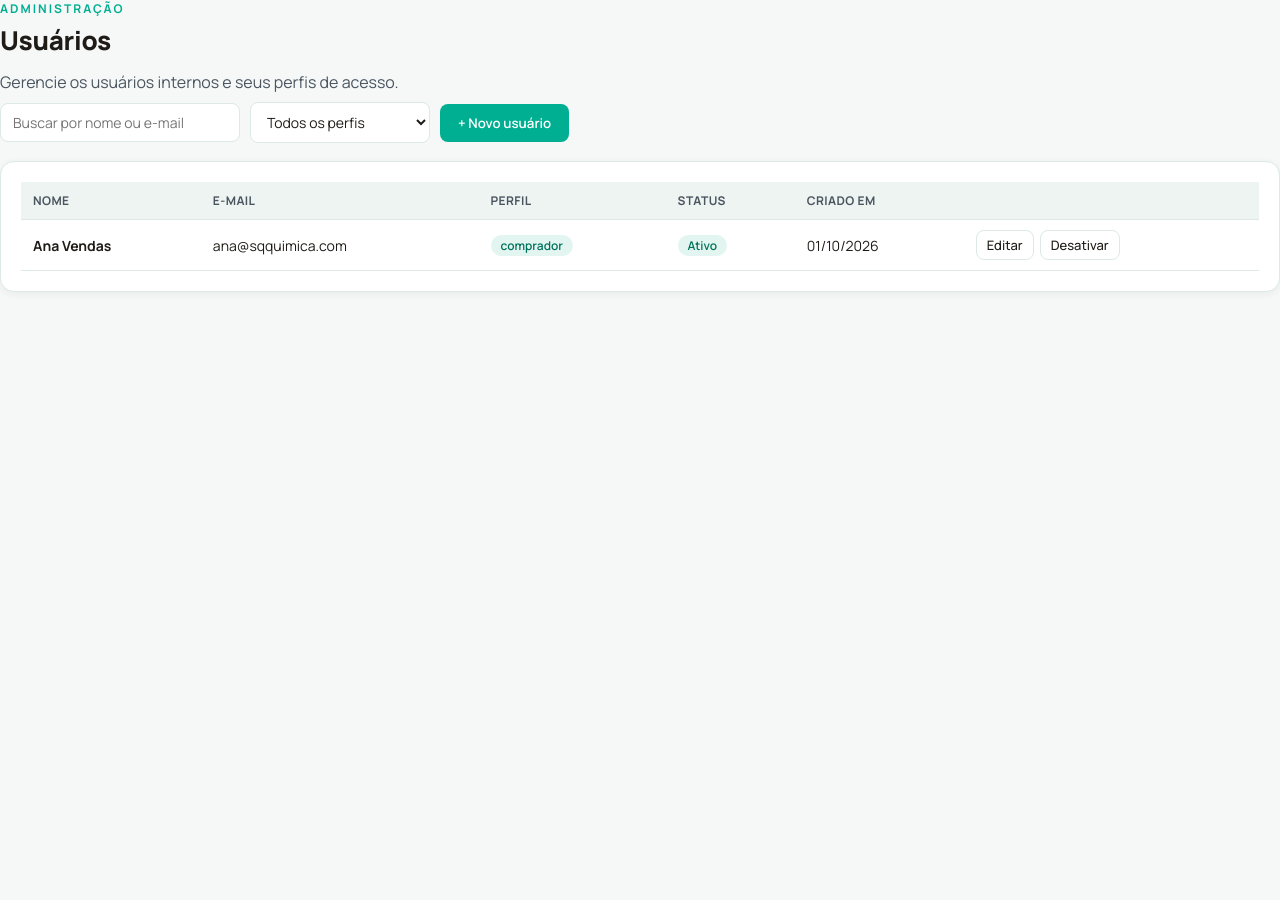
Test: Usuarios › 10. erro do backend (ex.: alterar o próprio perfil) aparece no modal e ele continua aberto
Click the button with aria-label "Editar Ana Vendas" at x=1005, y=245, box [976, 230, 1034, 260]
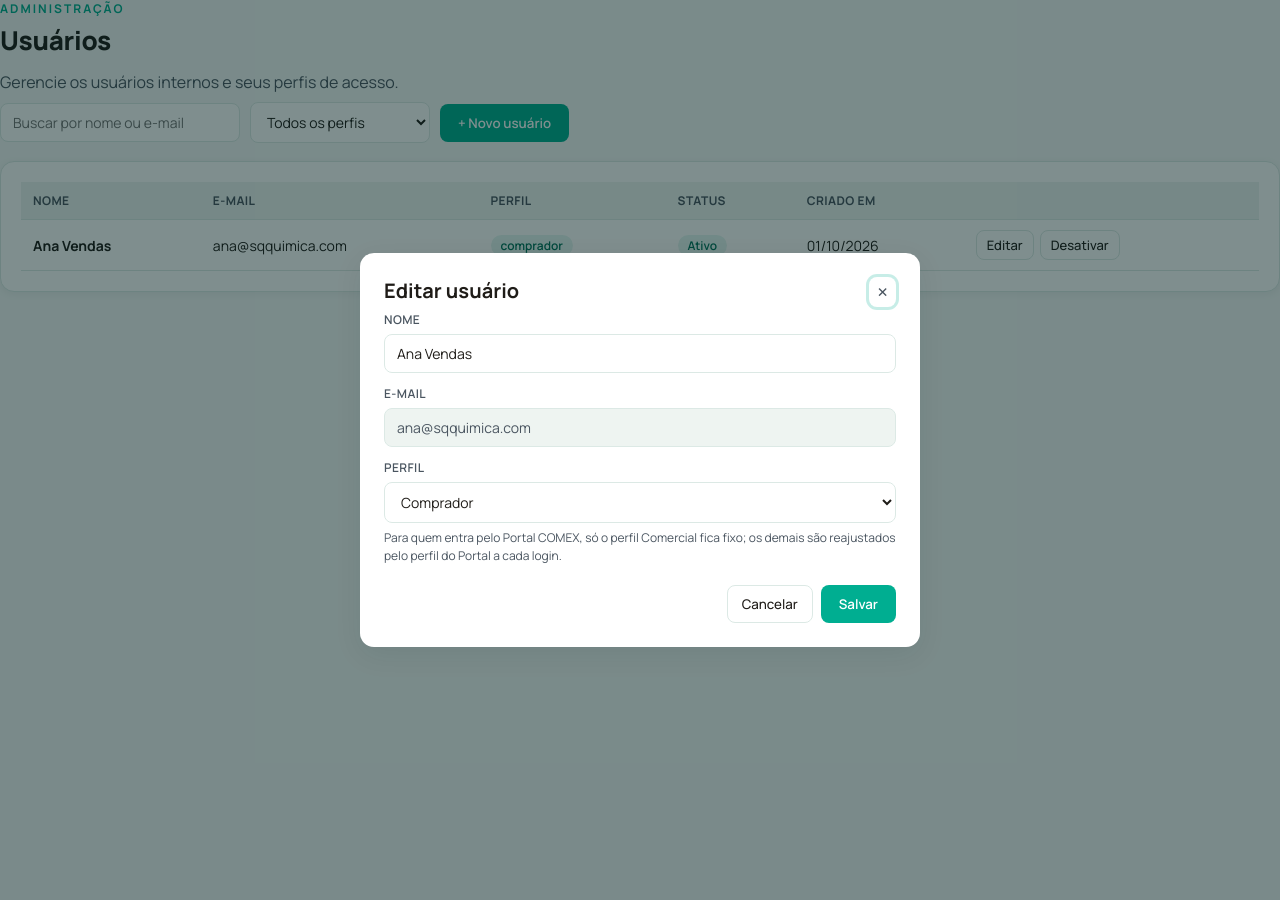
Select "Viewer" in the dropdown labelled "Perfil" at x=640, y=502, box [384, 482, 896, 523]
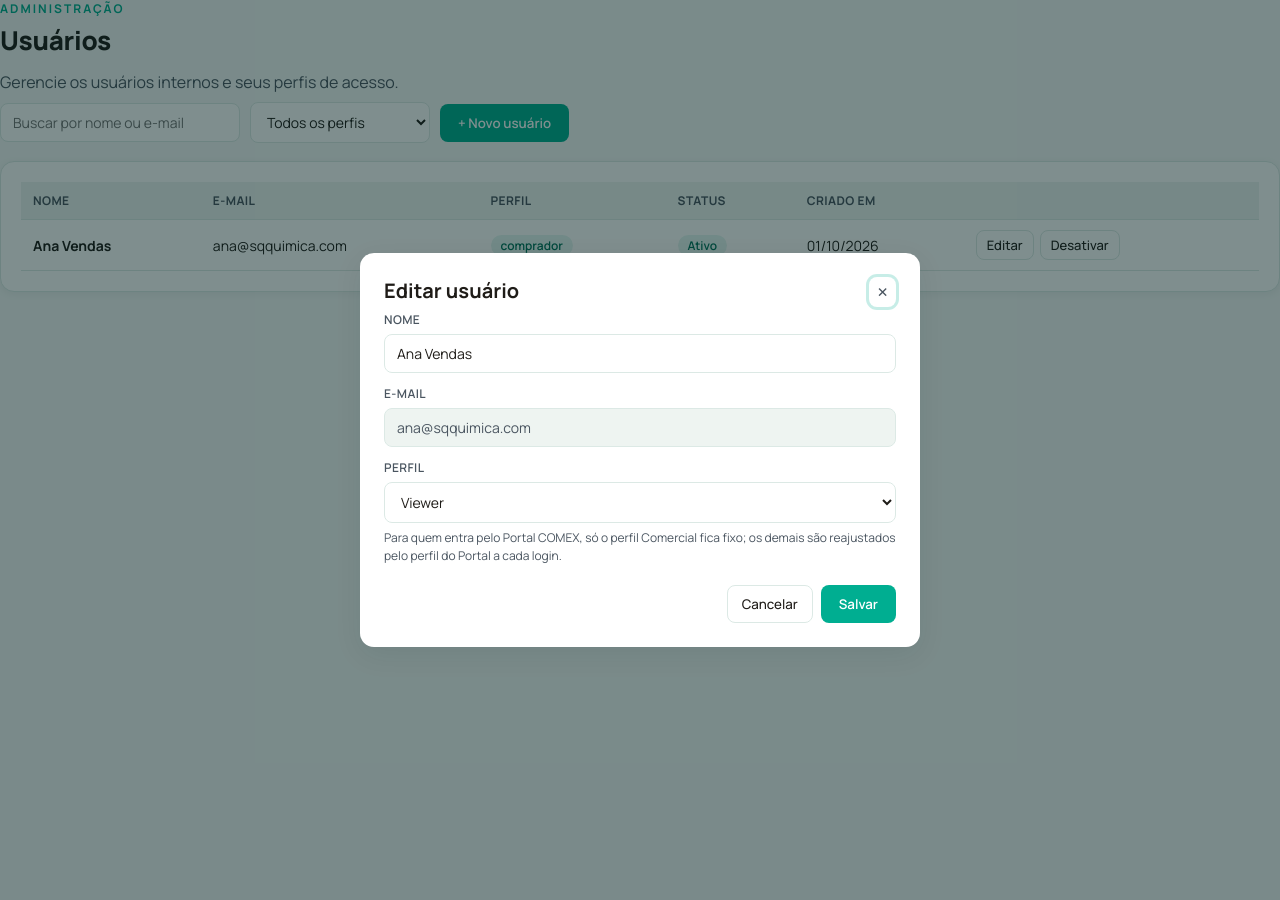
Click the button "Salvar" at x=858, y=604, box [821, 585, 896, 623]
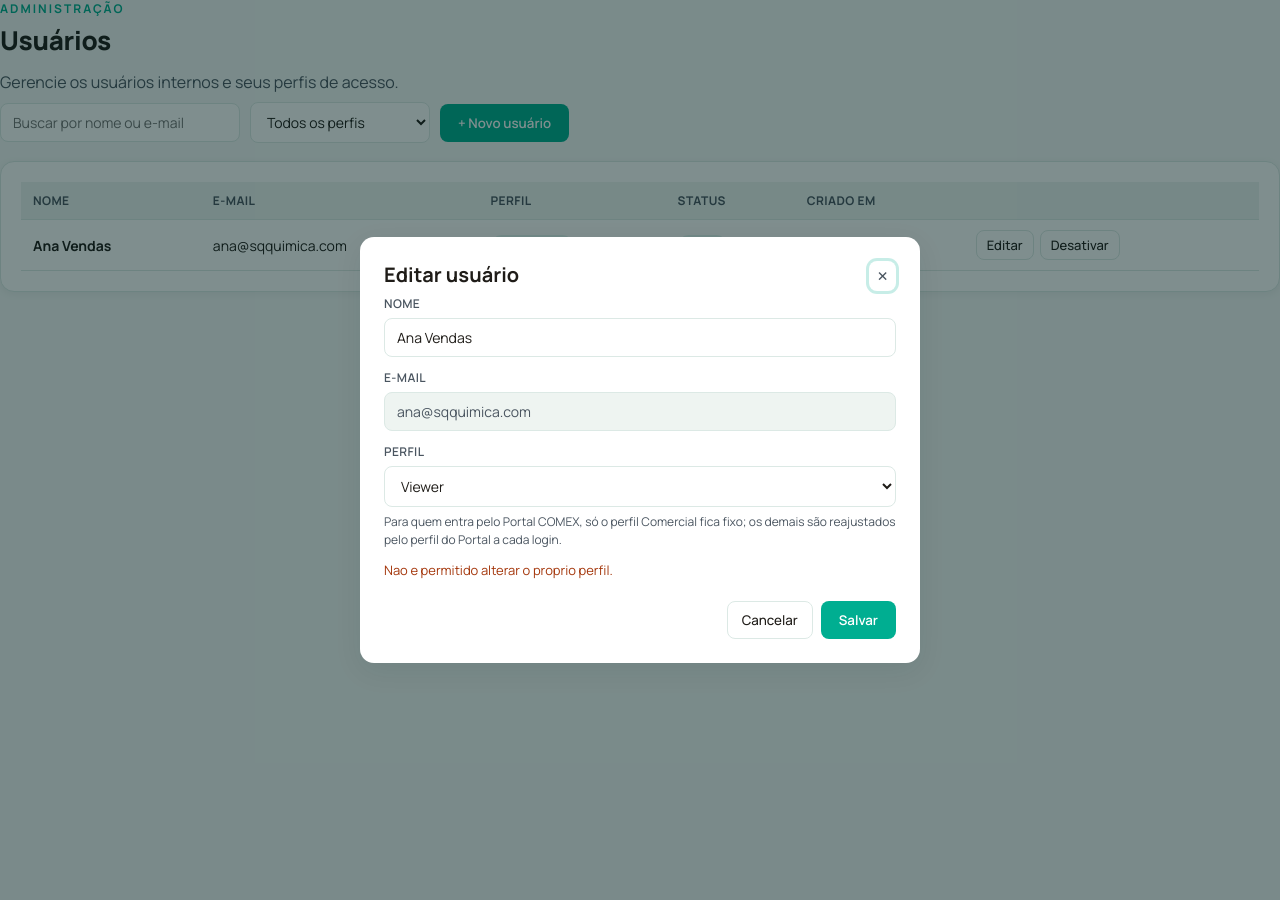
Result: the text "Nao e permitido alterar o proprio perfil." is shown at [384, 561, 613, 579]
